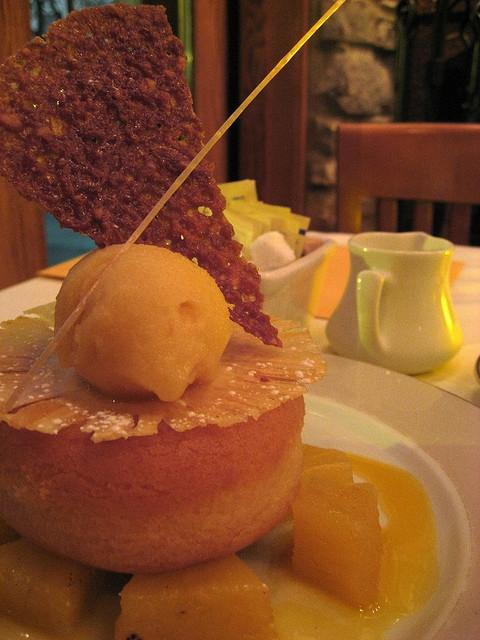pineapple: (1, 301, 326, 442), (114, 552, 276, 640), (292, 483, 387, 609), (0, 540, 110, 640), (276, 444, 351, 526)
